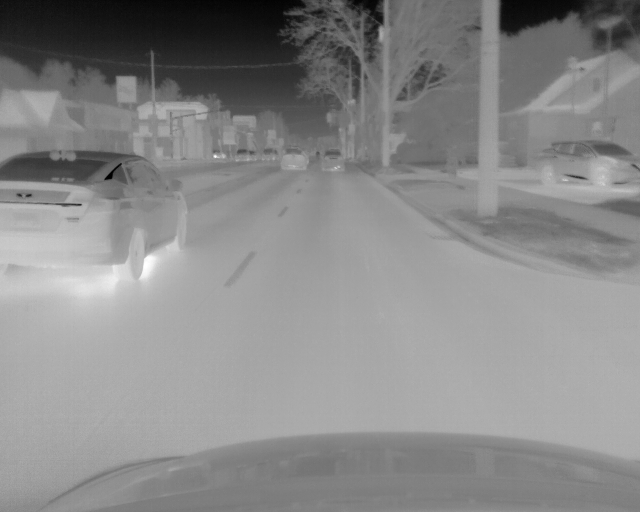car: (1, 149, 188, 284), (534, 138, 640, 191), (279, 147, 307, 171), (320, 148, 344, 175), (235, 148, 252, 163), (262, 148, 278, 160)
